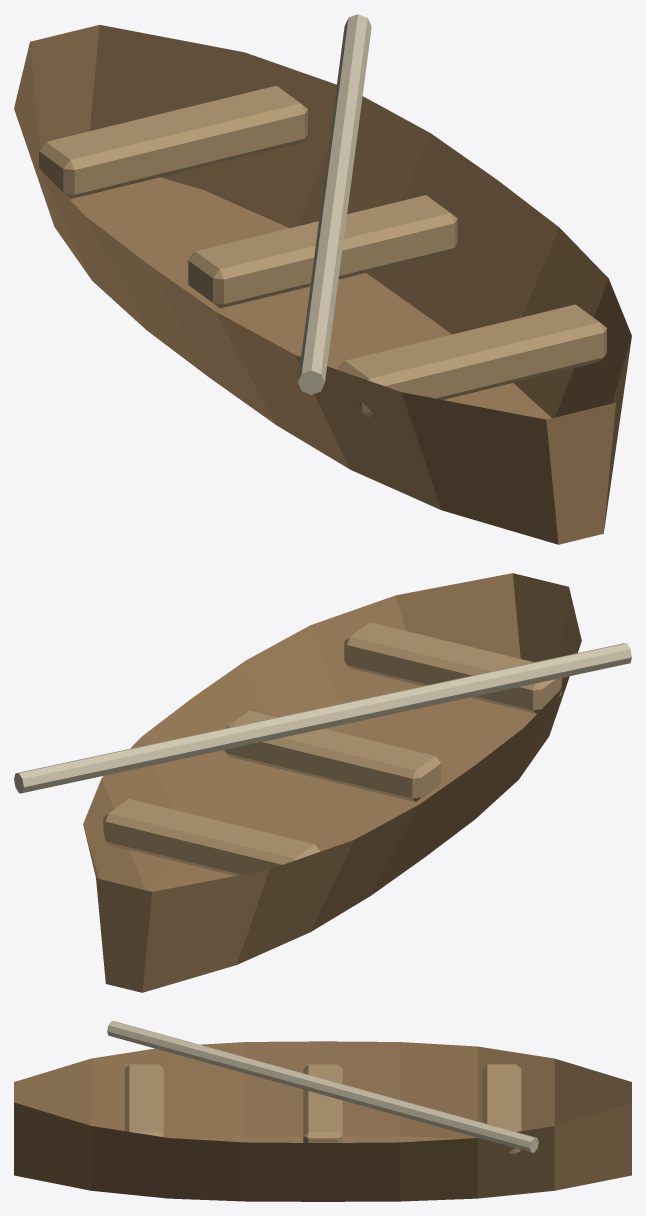
The model's file is boat.glb.
The picture shows the model from 3 angles, top to bottom: view 1: azimuth 30°, elevation 25°; view 2: azimuth 150°, elevation 25°; view 3: azimuth 270°, elevation 25°; orthographic projection. The views are drawn at different scales.
Visible parts, largest first — view 1: Model; view 2: Model; view 3: Model.
Boxes of the visible parts, box(x1,y1,x2,y2) form: Model: box(14, 14, 631, 544); Model: box(14, 573, 631, 992); Model: box(14, 1021, 631, 1201).
Bounding box in the file's own units: 0.8918 × 0.315 × 1.9.
